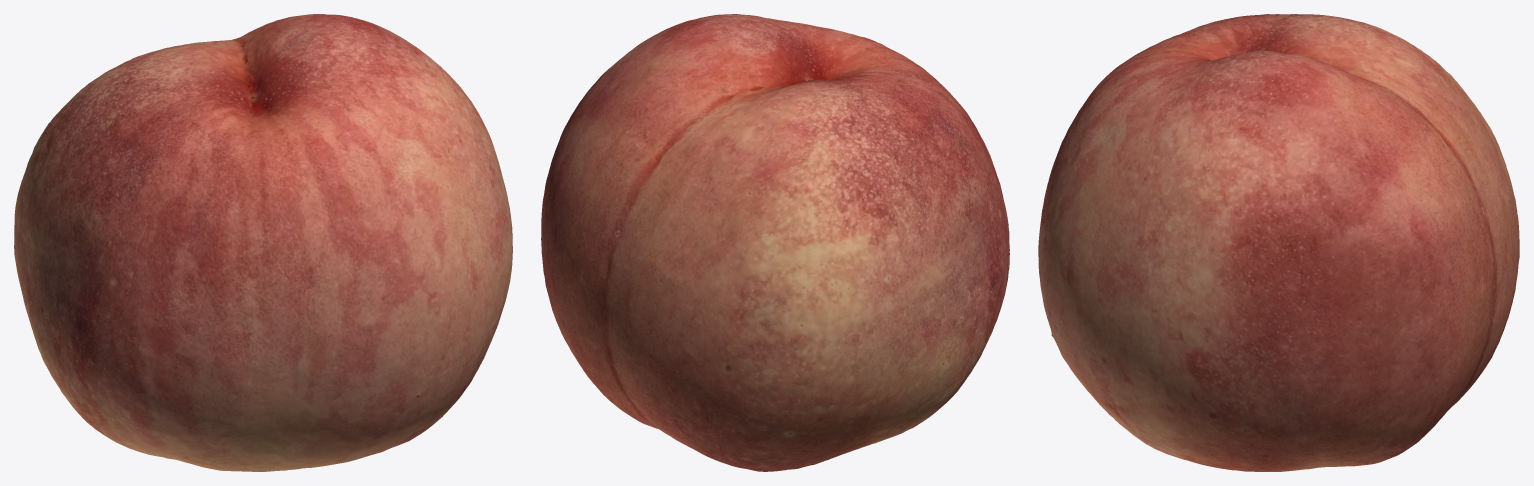
Rendered from peach-transformed.glb.
3 views of the same model, side by side, from view 1: azimuth 30°, elevation 25°; view 2: azimuth 150°, elevation 25°; view 3: azimuth 270°, elevation 25° (orthographic). The views are drawn at different scales.
Visible parts, largest first — view 1: Object_2; view 2: Object_2; view 3: Object_2.
Boxes of the visible parts, x1,y1,x2,y2 form: Object_2: (14,14,512,471); Object_2: (541,14,1009,471); Object_2: (1038,14,1519,471).
Size of the model in its own units: 21.98 by 19.71 by 21.45.
1 material, 1 textured.
